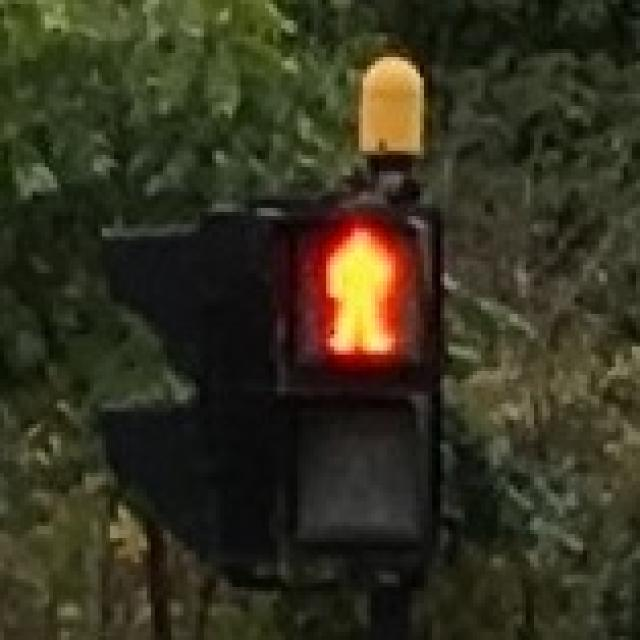red_light: (302, 216, 412, 359)
